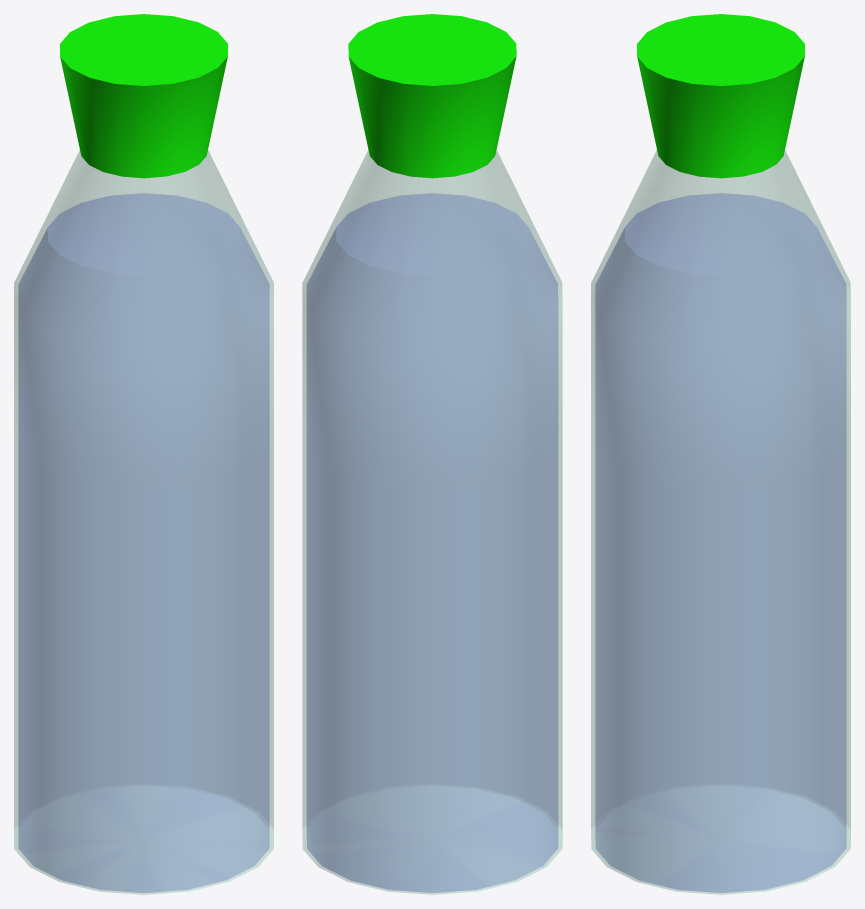
File: Anethesia Cart - Bottle Green S.FBX
3 renders of one model, left to right at view 1: azimuth 30°, elevation 25°; view 2: azimuth 150°, elevation 25°; view 3: azimuth 270°, elevation 25°, orthographic.
Visible parts, largest first — view 1: BottleBlue027; view 2: BottleBlue027; view 3: BottleBlue027.
Part boxes in pixels (<box>): BottleBlue027: <box>14,14,273,894</box>; BottleBlue027: <box>302,14,562,894</box>; BottleBlue027: <box>591,14,850,894</box>.
Bounding box in the file's own units: 1.91 × 6.29 × 1.88.
